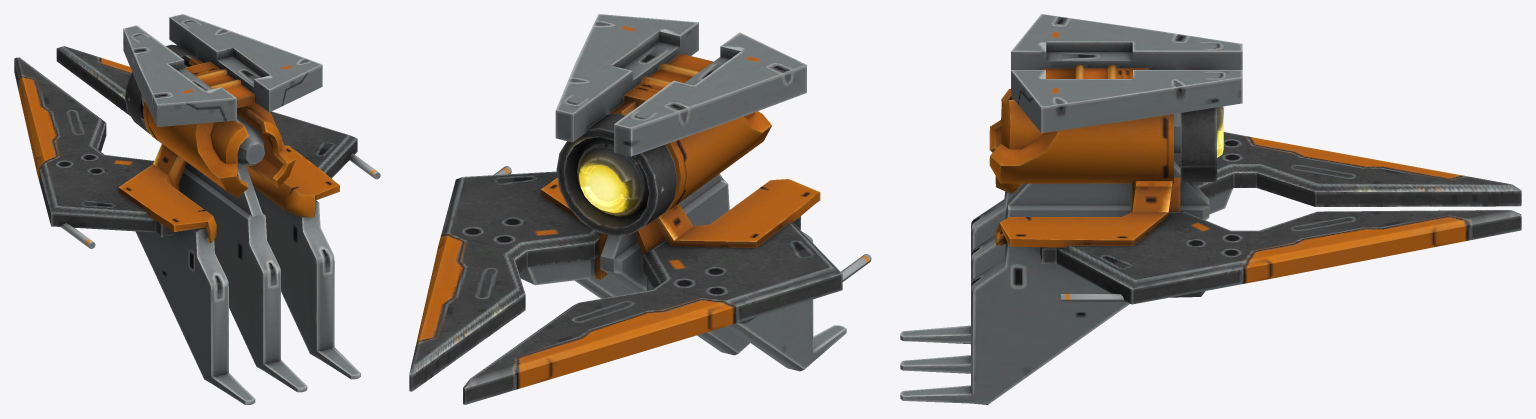
Rendered from pet-hammerclaw.glb.
3 views of the same model, side by side, from view 1: azimuth 30°, elevation 25°; view 2: azimuth 150°, elevation 25°; view 3: azimuth 270°, elevation 25° (orthographic). The views are drawn at different scales.
Visible parts, largest first — view 1: ingame_substance; view 2: ingame_substance; view 3: ingame_substance.
Boxes of the visible parts, box(x1,y1,x2,y2) form: ingame_substance: box(14, 14, 380, 404); ingame_substance: box(409, 14, 871, 404); ingame_substance: box(900, 14, 1521, 404).
Size of the model in its own units: 72.26 by 60.1 by 109.
1 material, 1 textured.
